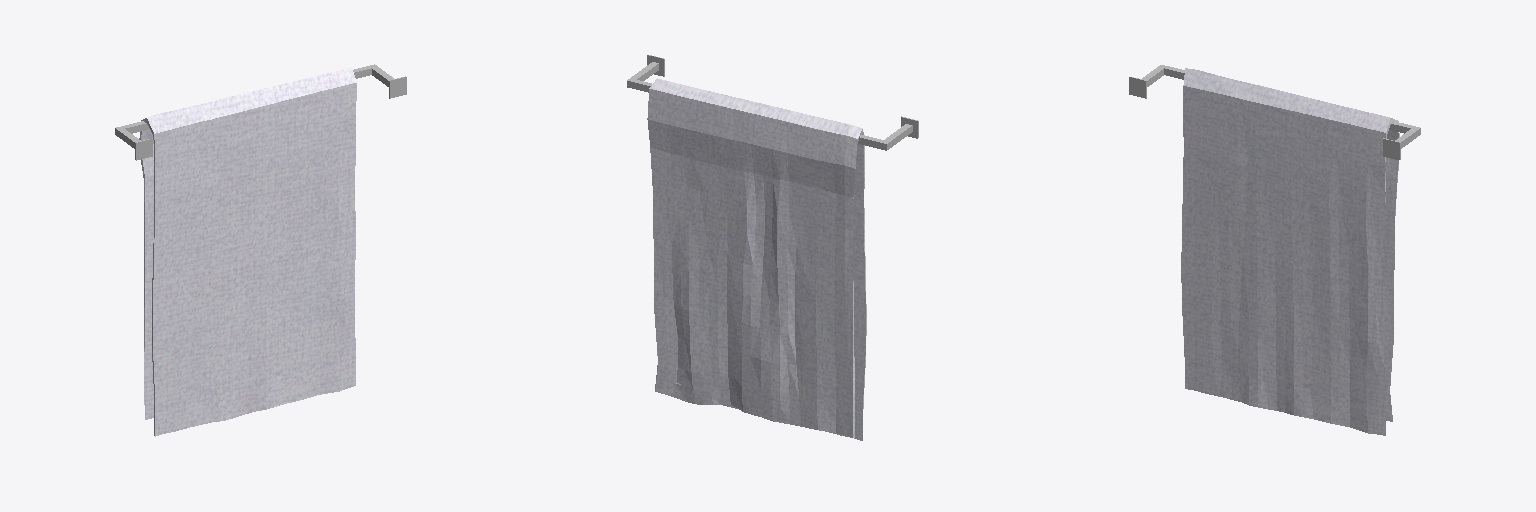
3 renders of one model, left to right at view 1: azimuth 30°, elevation 25°; view 2: azimuth 150°, elevation 25°; view 3: azimuth 330°, elevation 25°, orthographic.
Visible parts, largest first — view 1: towel_01, towel_01_handle; view 2: towel_01, towel_01_handle; view 3: towel_01, towel_01_handle.
Part boxes in pixels (bbox=[...]): towel_01: bbox=[139, 67, 356, 436]; towel_01_handle: bbox=[115, 64, 406, 160]; towel_01: bbox=[647, 78, 866, 440]; towel_01_handle: bbox=[627, 55, 918, 150]; towel_01: bbox=[1181, 68, 1399, 435]; towel_01_handle: bbox=[1129, 65, 1420, 159].
Size of the model in its own units: 0.4312 by 0.4835 by 0.0841.
Materials: 2 (1 with a texture image).